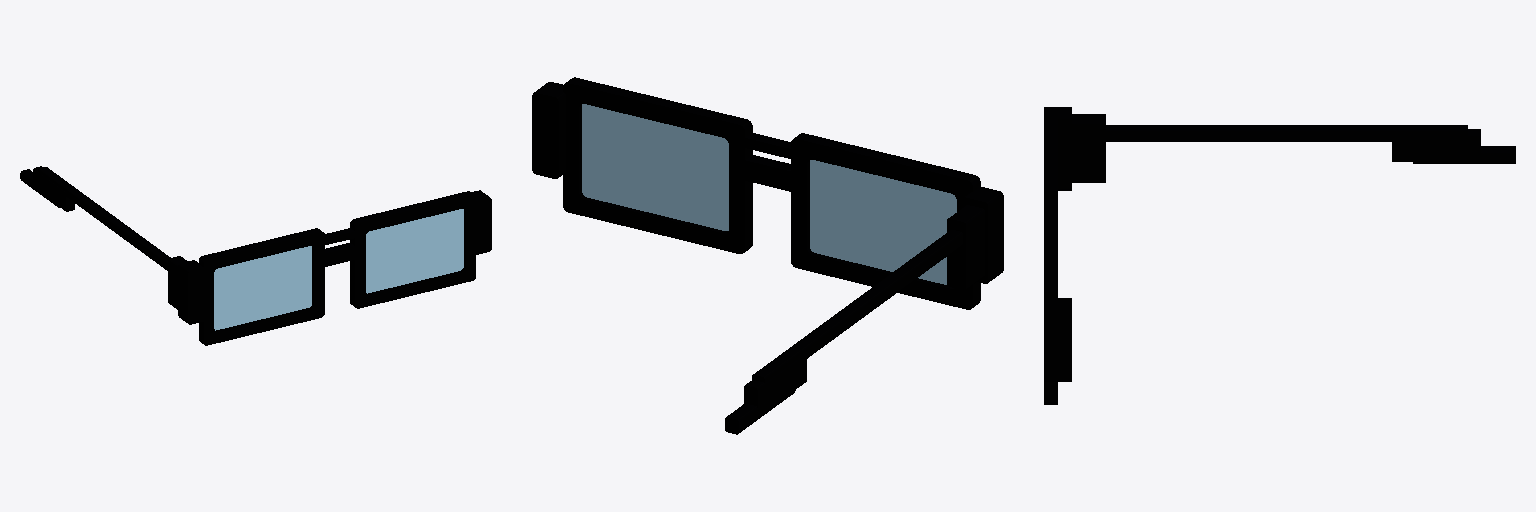
URDF robot description (rectangular_eyeglasses):
<robot name="rectangular_eyeglasses">
  <material name="satin_black_acetate">
    <color rgba="0.01 0.01 0.012 1" />
    </material>
  <material name="faint_blue_lens">
    <color rgba="0.72 0.9 1 0.36" />
    </material>
  <link name="front_frame">
    <visual name="frame_shell">
      <geometry>
        <mesh filename="assets/meshes/front_frame_shell.obj" />
        </geometry>
      <material name="satin_black_acetate">
        <color rgba="0.01 0.01 0.012 1" />
        </material>
      </visual>
    <visual name="lens_0">
      <origin xyz="-0.035 0 0" rpy="0 0 0" />
      <geometry>
        <box size="0.048 0.0012 0.03" />
        </geometry>
      <material name="faint_blue_lens">
        <color rgba="0.72 0.9 1 0.36" />
        </material>
      </visual>
    <visual name="lens_1">
      <origin xyz="0.035 0 0" rpy="0 0 0" />
      <geometry>
        <box size="0.048 0.0012 0.03" />
        </geometry>
      <material name="faint_blue_lens">
        <color rgba="0.72 0.9 1 0.36" />
        </material>
      </visual>
    <collision name="frame_shell">
      <geometry>
        <mesh filename="assets/meshes/front_frame_shell.obj" />
        </geometry>
      </collision>
    <collision name="lens_0">
      <origin xyz="-0.035 0 0" rpy="0 0 0" />
      <geometry>
        <box size="0.048 0.0012 0.03" />
        </geometry>
      </collision>
    <collision name="lens_1">
      <origin xyz="0.035 0 0" rpy="0 0 0" />
      <geometry>
        <box size="0.048 0.0012 0.03" />
        </geometry>
      </collision>
    </link>
  <link name="temple_0">
    <visual name="arm_shell">
      <geometry>
        <mesh filename="assets/meshes/temple_0_shell.obj" />
        </geometry>
      <material name="satin_black_acetate">
        <color rgba="0.01 0.01 0.012 1" />
        </material>
      </visual>
    <collision name="arm_shell">
      <geometry>
        <mesh filename="assets/meshes/temple_0_shell.obj" />
        </geometry>
      </collision>
    </link>
  <link name="temple_1">
    <visual name="arm_shell">
      <geometry>
        <mesh filename="assets/meshes/temple_1_shell.obj" />
        </geometry>
      <material name="satin_black_acetate">
        <color rgba="0.01 0.01 0.012 1" />
        </material>
      </visual>
    <collision name="arm_shell">
      <geometry>
        <mesh filename="assets/meshes/temple_1_shell.obj" />
        </geometry>
      </collision>
    </link>
  <joint name="front_to_temple_0" type="revolute">
    <origin xyz="-0.066 0.0055 0.004" rpy="0 0 0" />
    <parent link="front_frame" />
    <child link="temple_0" />
    <axis xyz="0 0 -1" />
    <limit effort="0.5" velocity="2" lower="0" upper="1.75" />
    </joint>
  <joint name="front_to_temple_1" type="revolute">
    <origin xyz="0.066 0.0055 0.004" rpy="0 0 0" />
    <parent link="front_frame" />
    <child link="temple_1" />
    <axis xyz="0 0 1" />
    <limit effort="0.5" velocity="2" lower="0" upper="1.75" />
    </joint>
  </robot>

--- What the picture shows (computed from the rendered views, not written in the file) ---
Views: 3 orthographic renders of the robot side by side, from view 1: azimuth 30°, elevation 25°; view 2: azimuth 150°, elevation 25°; view 3: azimuth 270°, elevation 25°.
Model rectangular_eyeglasses with 3 links and 2 joints (2 revolute), rooted at front_frame, posed every joint at zero.
Links seen in each view (by area): view 1: front_frame, temple_0; view 2: front_frame, temple_0; view 3: temple_0, front_frame.
Boxes of the visible links, x1,y1,x2,y2 form: front_frame: (178, 190, 491, 345); temple_0: (20, 166, 187, 309); front_frame: (532, 77, 1003, 309); temple_0: (725, 205, 984, 434); temple_0: (1072, 114, 1515, 182); front_frame: (1044, 107, 1071, 404).
Bounding box of the posed robot: 0.14 × 0.1375 × 0.038 m (x, y, z).
2 mesh visuals loaded from 3 distinct referenced files (2 OBJ); not drawn: 1 (reference not matched to a file when rendering).
